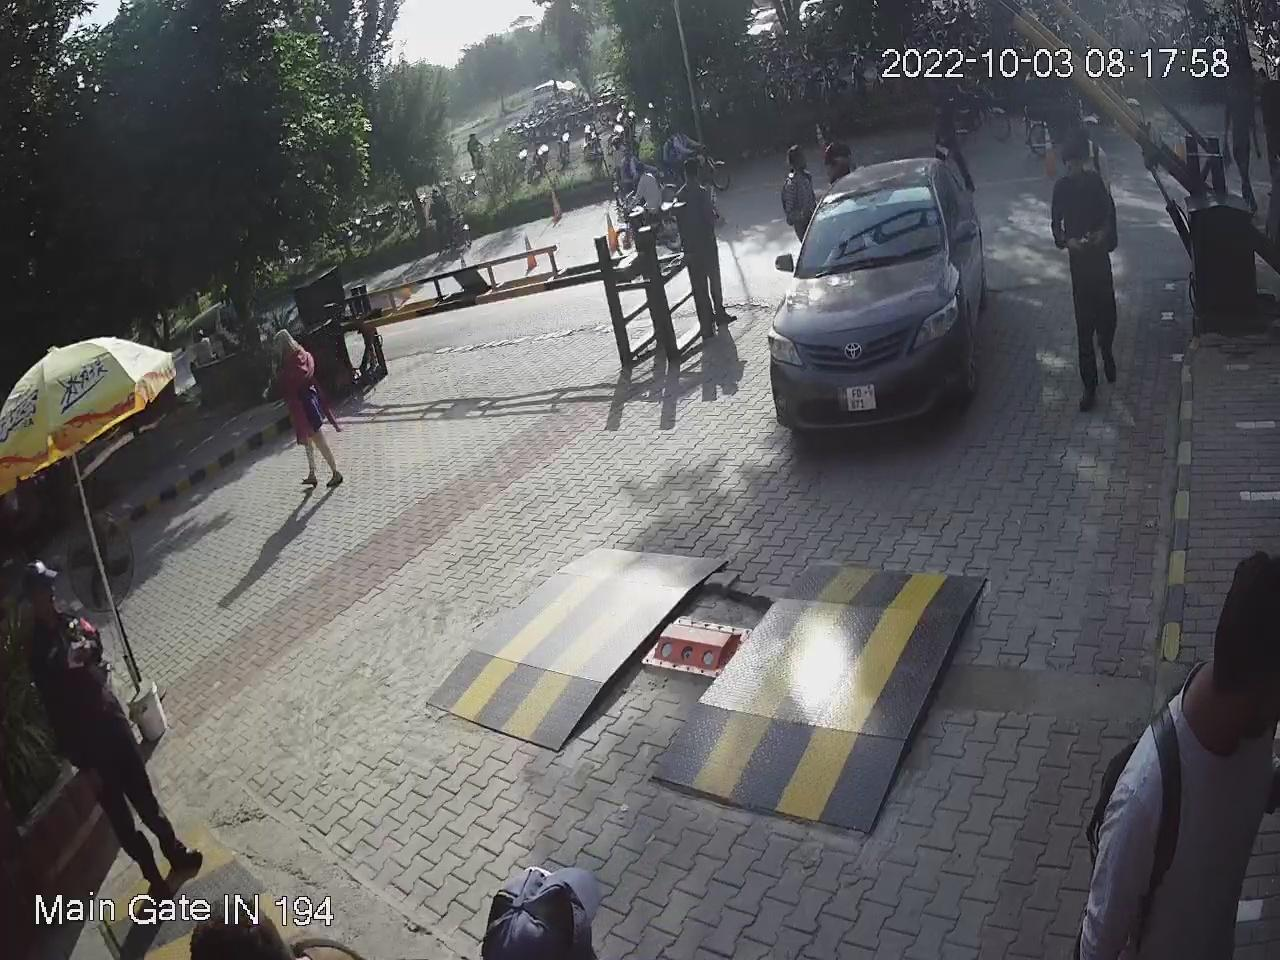windshield: (793, 177, 947, 277)
